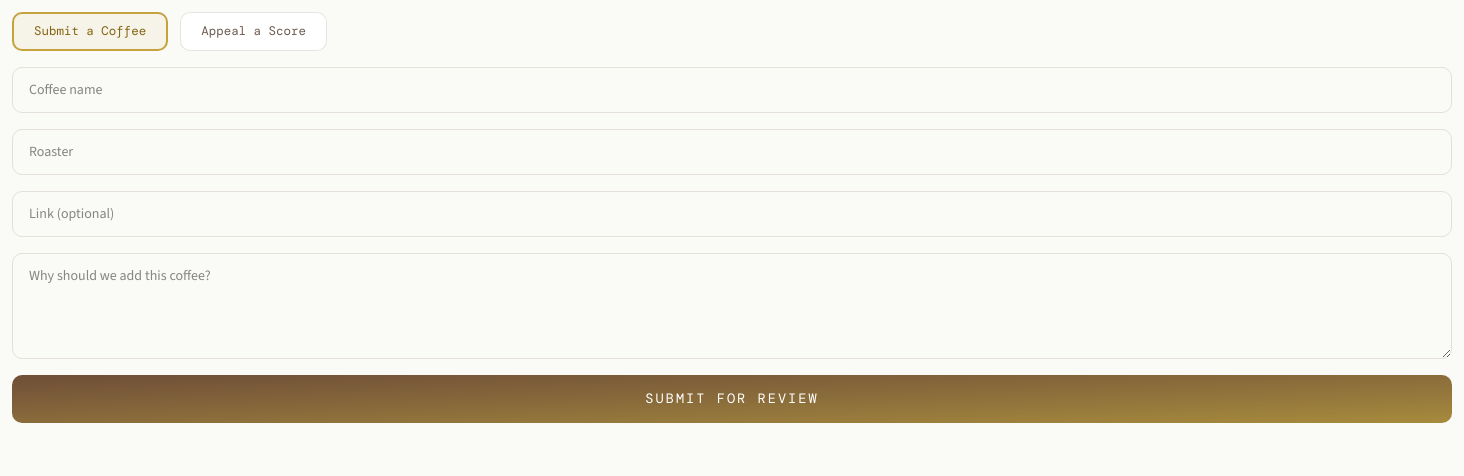
Scenario: SubmitForm › offers a pre-filled email to Tony when saving fails
Type "Gesha Lot 74" into the field labelled "Coffee name" at (732, 90), box 12,67 -> 1452,113
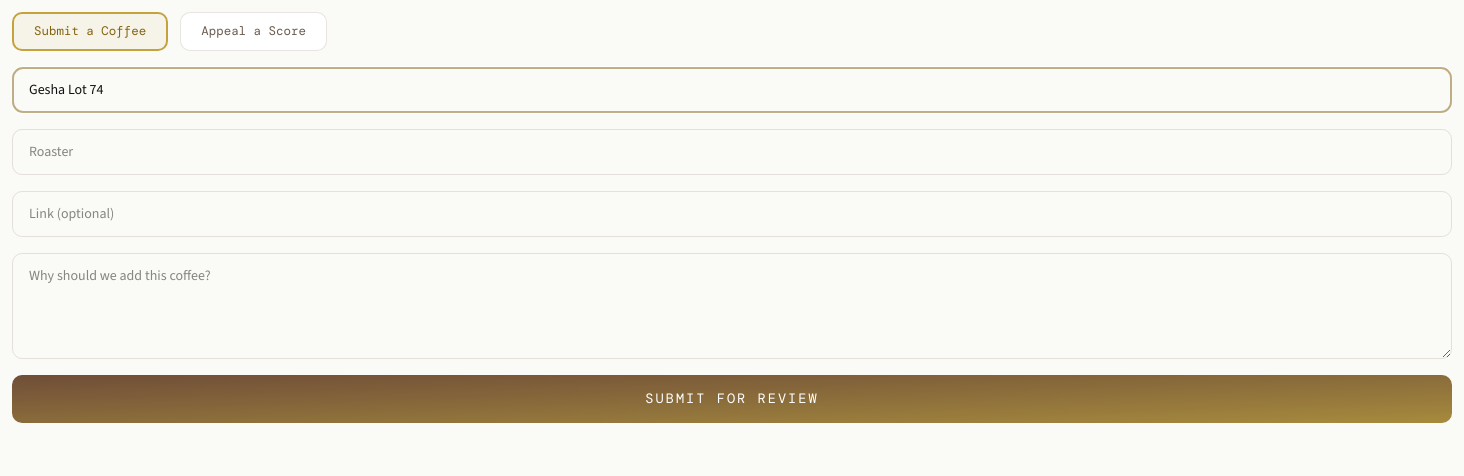
Type "Best cup of my life." into the text box labelled "Why should we add this coffee?" at (732, 306), box 12,253 -> 1452,359
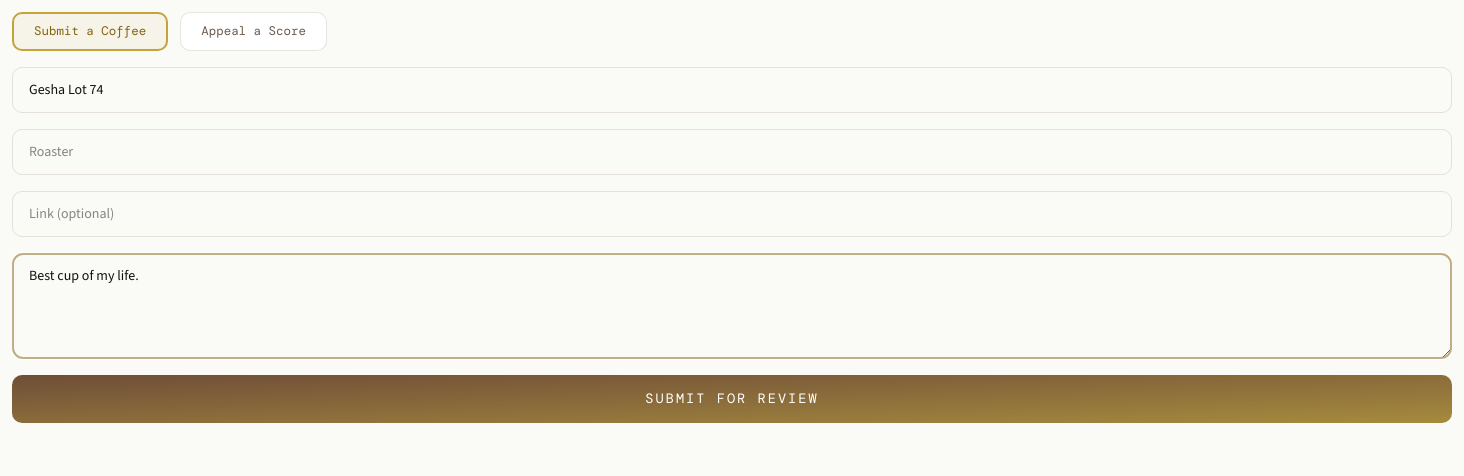
Click the button "Submit for Review" at (732, 399), box 12,375 -> 1452,423
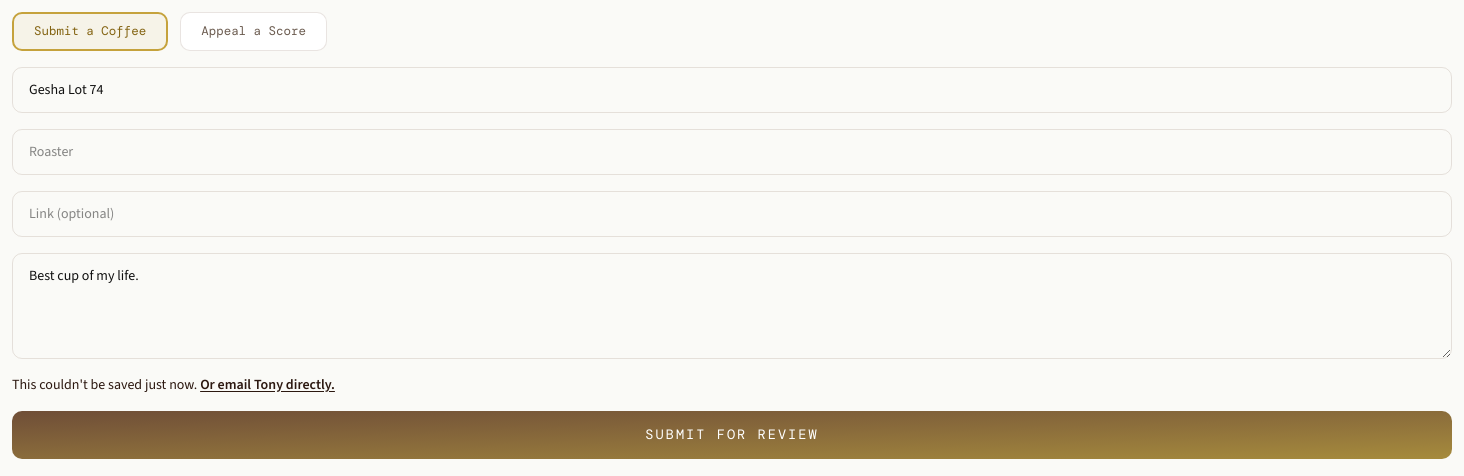
expect the message shows "This couldn't be saved just now.": met, box 12,375 -> 197,394
